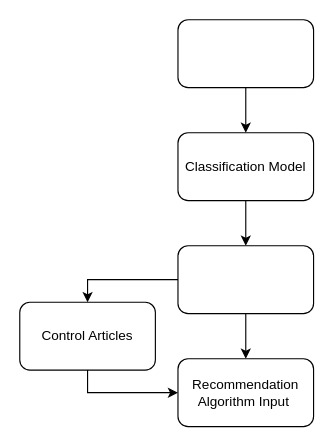
Some shapes in this 333 by 446 pixel diagram are drawn without their labels. The centre of each missing label's shape, as x and y in pixels:
Article Submission: the point at 245,53
Quality Labeling: the point at 245,279
